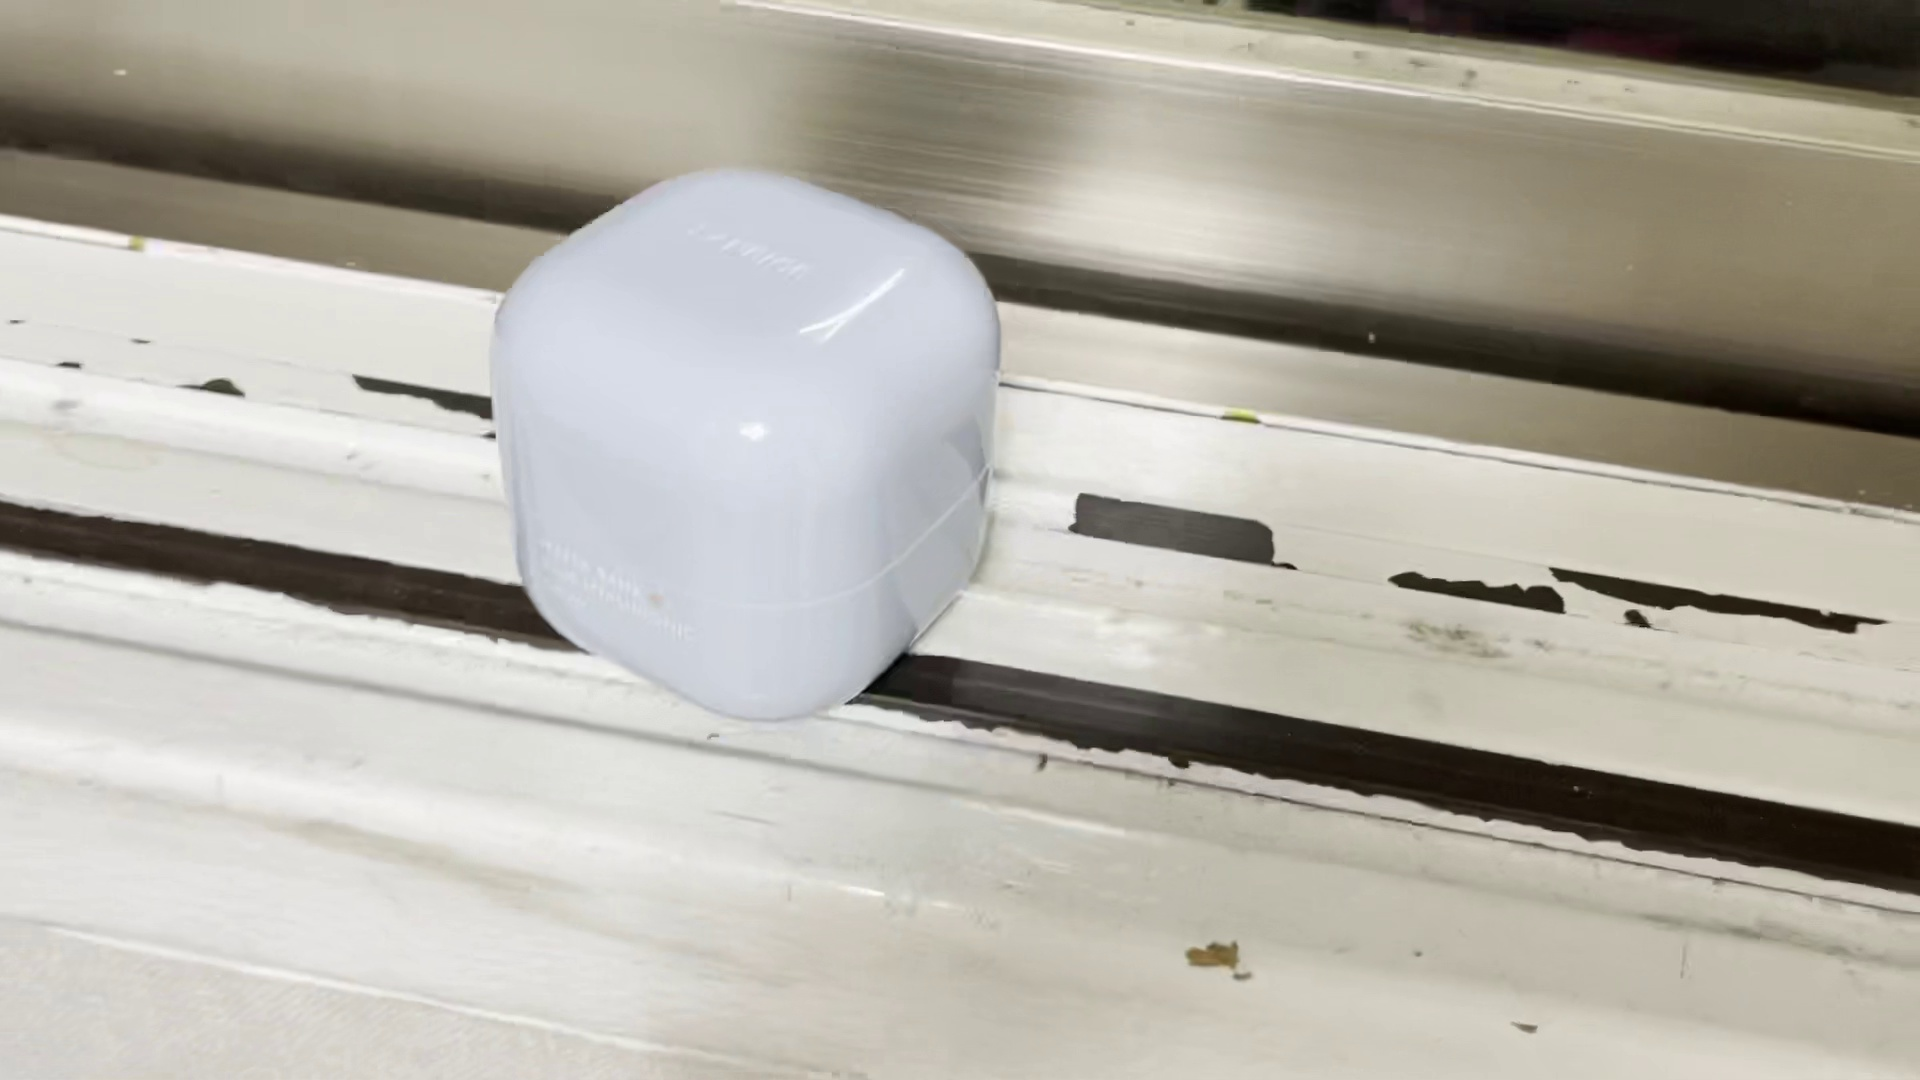cream: (498, 166, 1007, 715)
